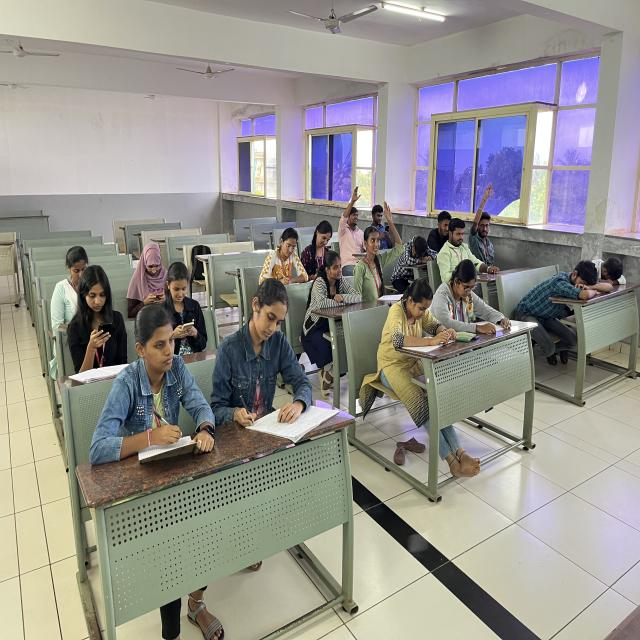Hand Rising: (346, 198, 404, 287), (467, 174, 518, 270)
Reading: (381, 278, 454, 366), (450, 260, 514, 341)
Sleeping: (552, 258, 608, 302)
Using Phone: (56, 241, 131, 371), (155, 261, 220, 347)
Writing: (211, 268, 349, 439), (99, 300, 214, 467), (248, 212, 310, 289)
